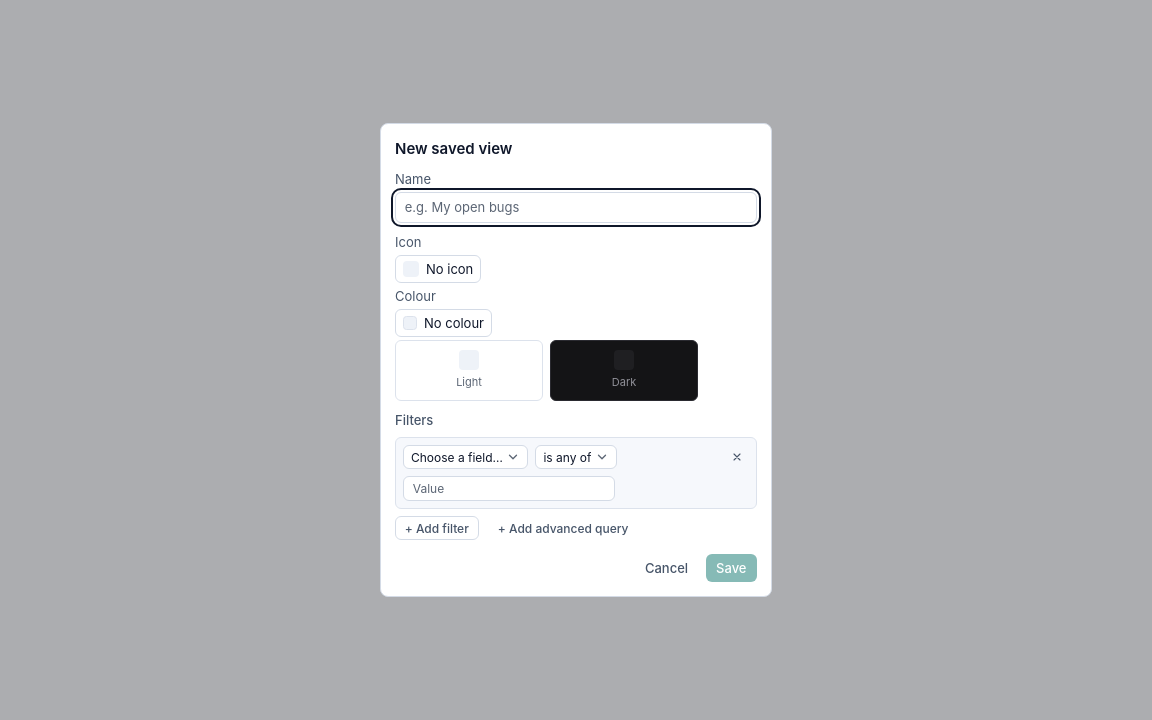
it: ViewFormDialog — a taken name is refused (B21) › a new view with a taken name shows the error and does not POST
The image size is (1152, 720).
Type "Overdue " into the field with test id "view-form-name" at (576, 207), box [395,192,757,223]
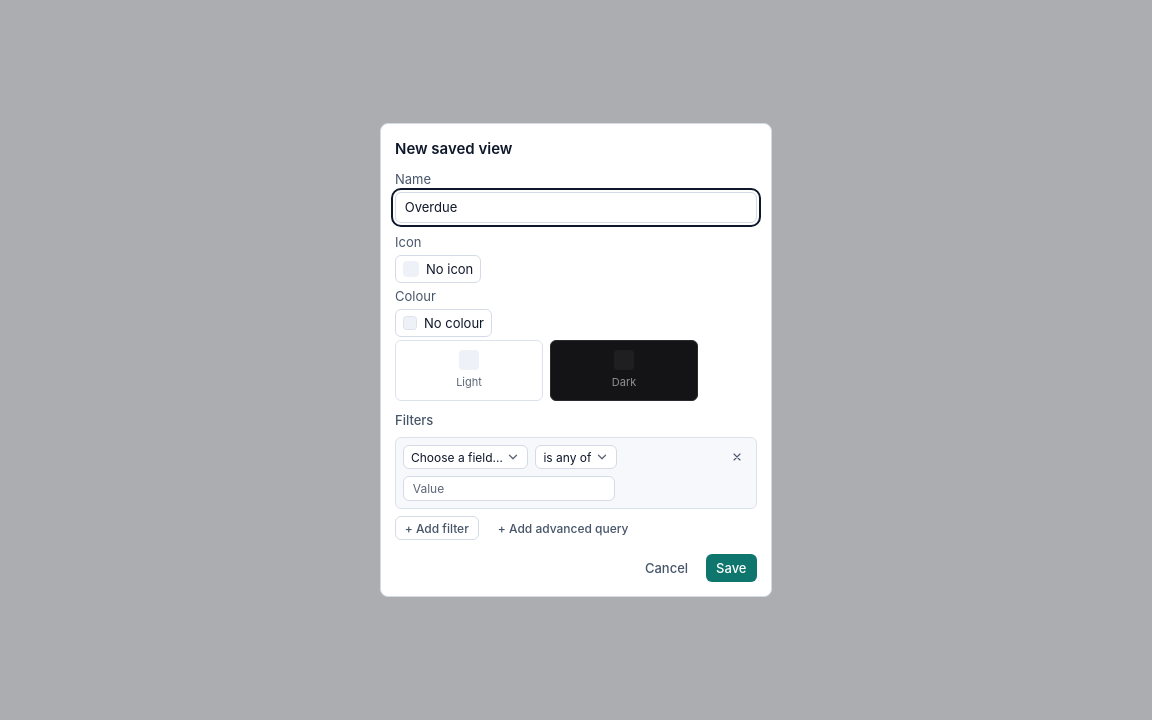
Click the button with test id "view-form-save" at (731, 568), box [706,554,757,582]
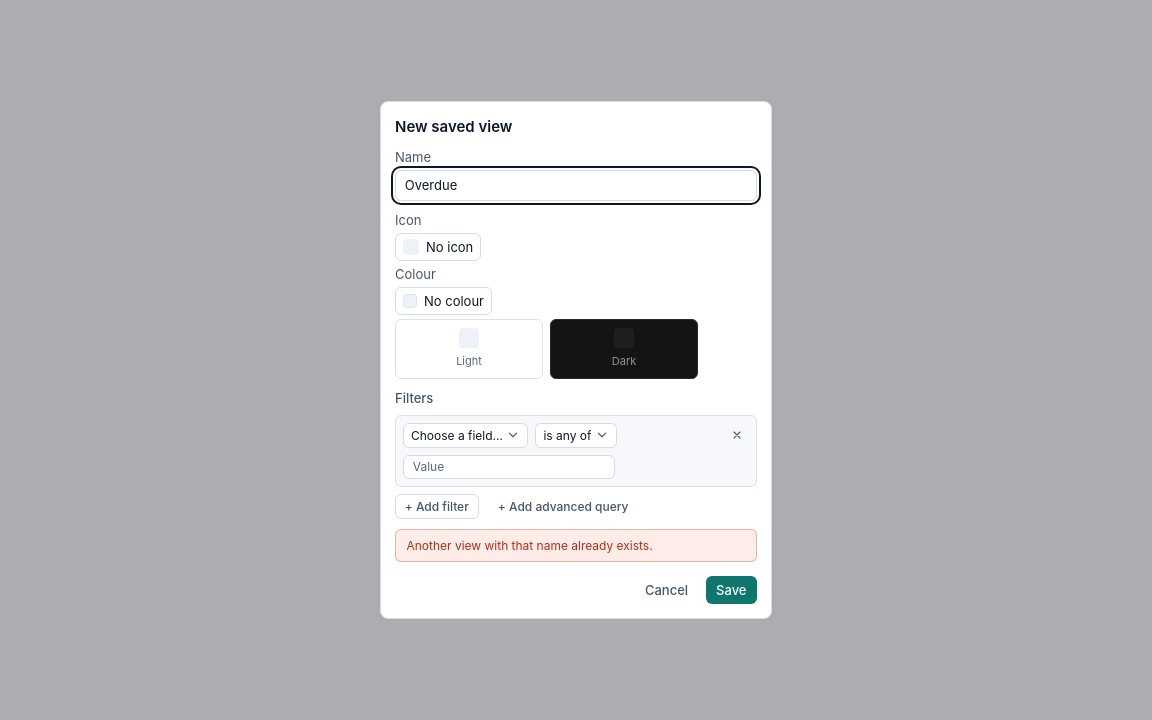
Expected: the message "Another view with that name already exists." is shown, [395,529,757,562]
